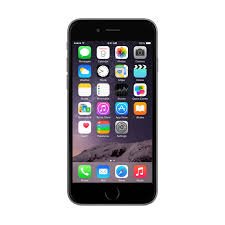iphone6: (64, 16, 161, 207)
